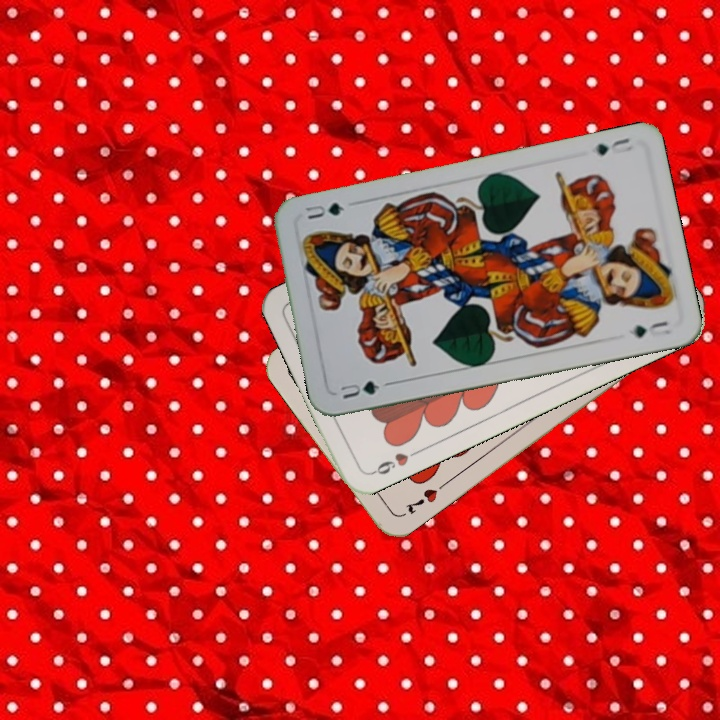GU: (336, 377, 382, 402), (591, 134, 636, 158)
H7: (401, 484, 440, 517)
H9: (365, 446, 421, 478)
